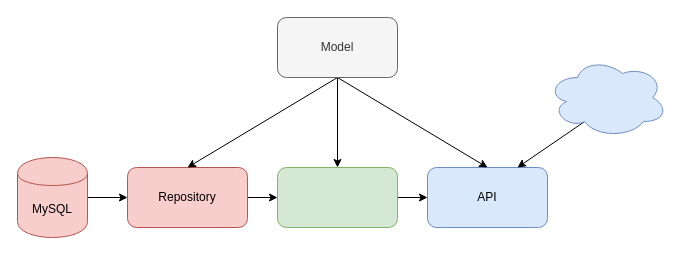
This 685x255 diagram has some shape labels left out. The centre of each missing label's shape, as x and y in pixels:
"HTTP" goes at point 607,97.
"Service" goes at point 337,197.
